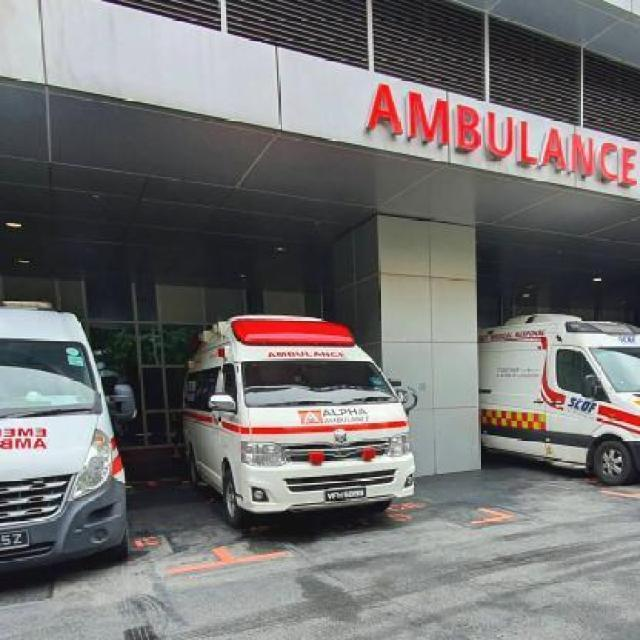emergency: (178, 312, 418, 528), (0, 296, 136, 580), (478, 312, 638, 484)
